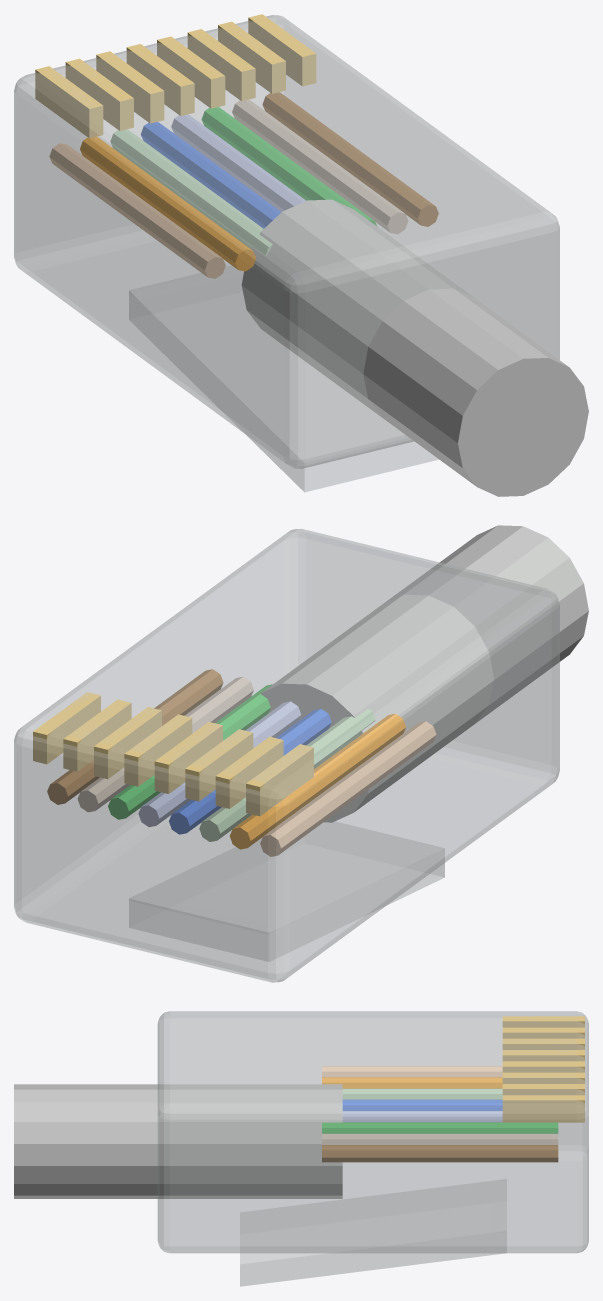
File: cable_rj45_plug_ok.glb
The picture shows the model from 3 angles, top to bottom: view 1: azimuth 30°, elevation 25°; view 2: azimuth 150°, elevation 25°; view 3: azimuth 270°, elevation 25°; orthographic projection. The views are drawn at different scales.
Parts seen in each view (by area): view 1: plug_body, variant_ok_mesh, latch; view 2: plug_body, variant_ok_mesh, latch; view 3: plug_body, variant_ok_mesh, latch.
Part boxes in pixels (<box>): plug_body: <box>14,14,559,468</box>; variant_ok_mesh: <box>49,92,588,496</box>; latch: <box>129,265,438,492</box>; plug_body: <box>14,529,559,982</box>; variant_ok_mesh: <box>47,525,588,856</box>; latch: <box>129,822,444,961</box>; plug_body: <box>157,1011,588,1253</box>; variant_ok_mesh: <box>14,1066,558,1198</box>; latch: <box>240,1179,506,1286</box>.
Size of the model in its own units: 0.0117 by 0.0109 by 0.028.
